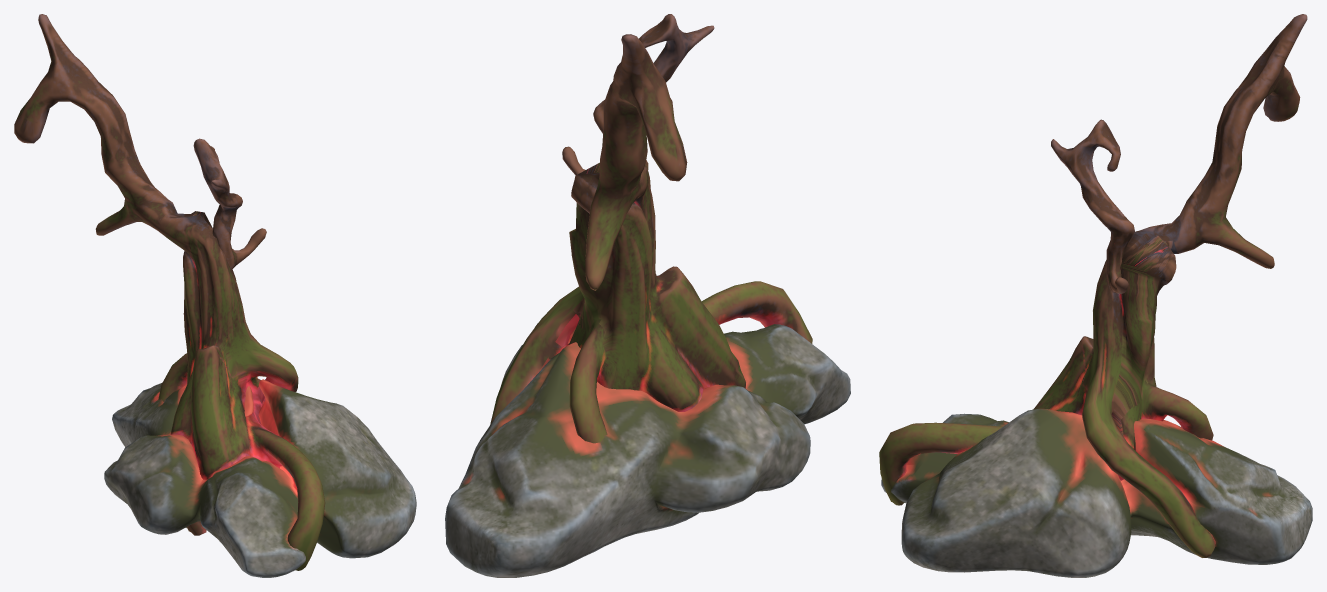
The model's file is Tree2.fbx.
3 renders of one model, left to right at view 1: azimuth 30°, elevation 25°; view 2: azimuth 150°, elevation 25°; view 3: azimuth 270°, elevation 25°, orthographic. The views are drawn at different scales.
Parts seen in each view (by area): view 1: Tree2; view 2: Tree2; view 3: Tree2.
Part boxes in pixels (x1=…): Tree2: x1=14, y1=14, x2=416, y2=577; Tree2: x1=445, y1=14, x2=850, y2=577; Tree2: x1=879, y1=14, x2=1312, y2=577.
Bounding box in the file's own units: 369 × 678 × 551.
